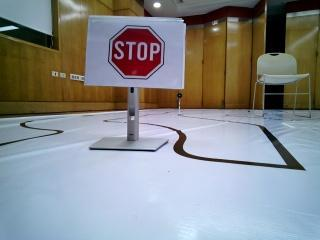stop: (97, 19, 182, 88)
